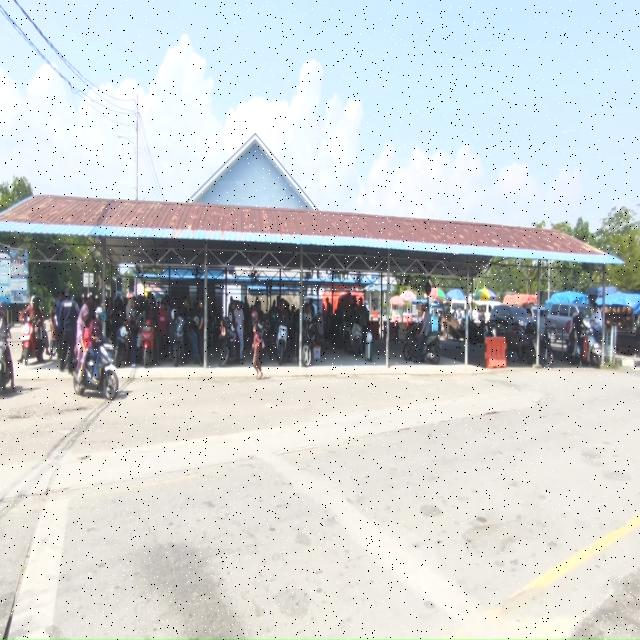Golongan II: (73, 341, 119, 401), (518, 322, 554, 368), (567, 323, 602, 367), (403, 332, 441, 364), (21, 318, 44, 366), (219, 318, 238, 367), (0, 317, 11, 391), (114, 319, 130, 368), (140, 320, 156, 368), (302, 319, 317, 367), (172, 316, 185, 367), (276, 323, 288, 365), (349, 322, 363, 358), (339, 317, 352, 353), (468, 320, 486, 345)
